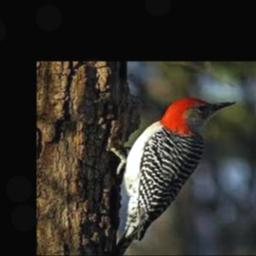Woodpecker: (111, 96, 235, 255)
